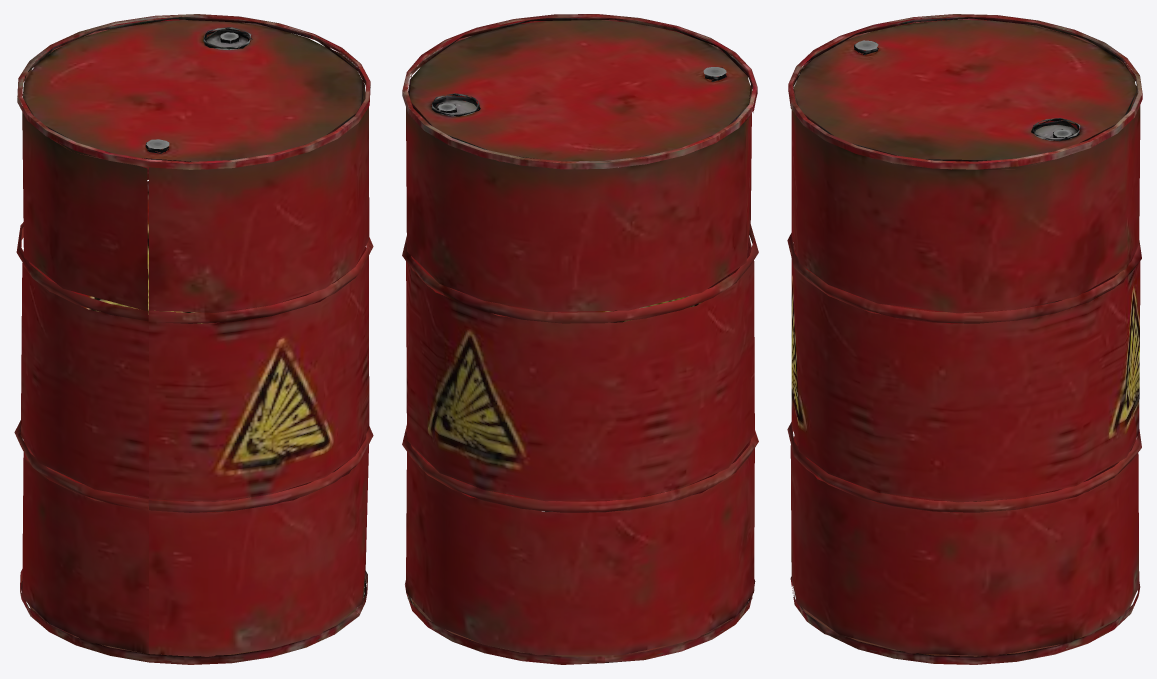
Rendered from drum_a.glb.
3 renders of one model, left to right at view 1: azimuth 30°, elevation 25°; view 2: azimuth 150°, elevation 25°; view 3: azimuth 270°, elevation 25°, orthographic.
Parts seen in each view (by area): view 1: Barrel_01; view 2: Barrel_01; view 3: Barrel_01.
Part boxes in pixels (x1,y1,x2,y2): Barrel_01: [14, 14, 373, 664]; Barrel_01: [402, 14, 758, 664]; Barrel_01: [787, 14, 1142, 664].
Bounding box in the file's own units: 0.5644 × 0.8819 × 0.5624.
1 material, 1 textured.
